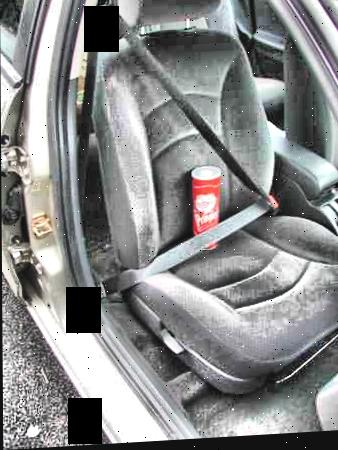seatbelt: (83, 15, 279, 290)
